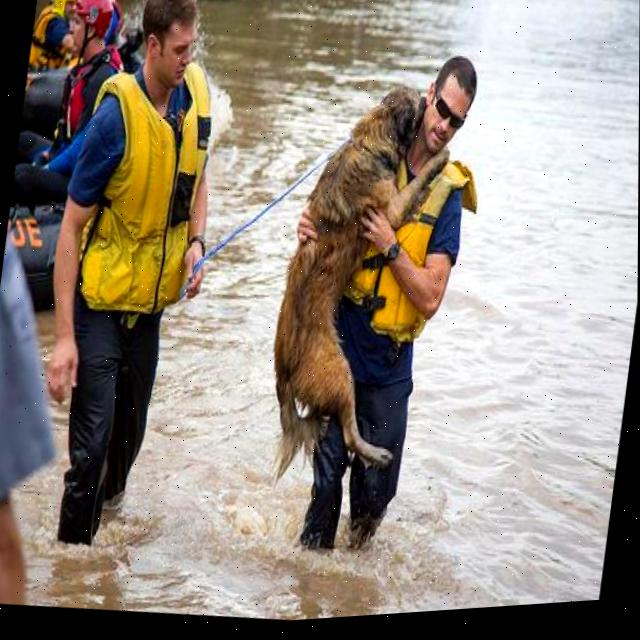dog: (252, 63, 443, 493)
rescuer: (10, 0, 245, 574), (267, 31, 506, 583), (50, 0, 141, 166), (26, 0, 83, 86), (71, 0, 143, 50)
